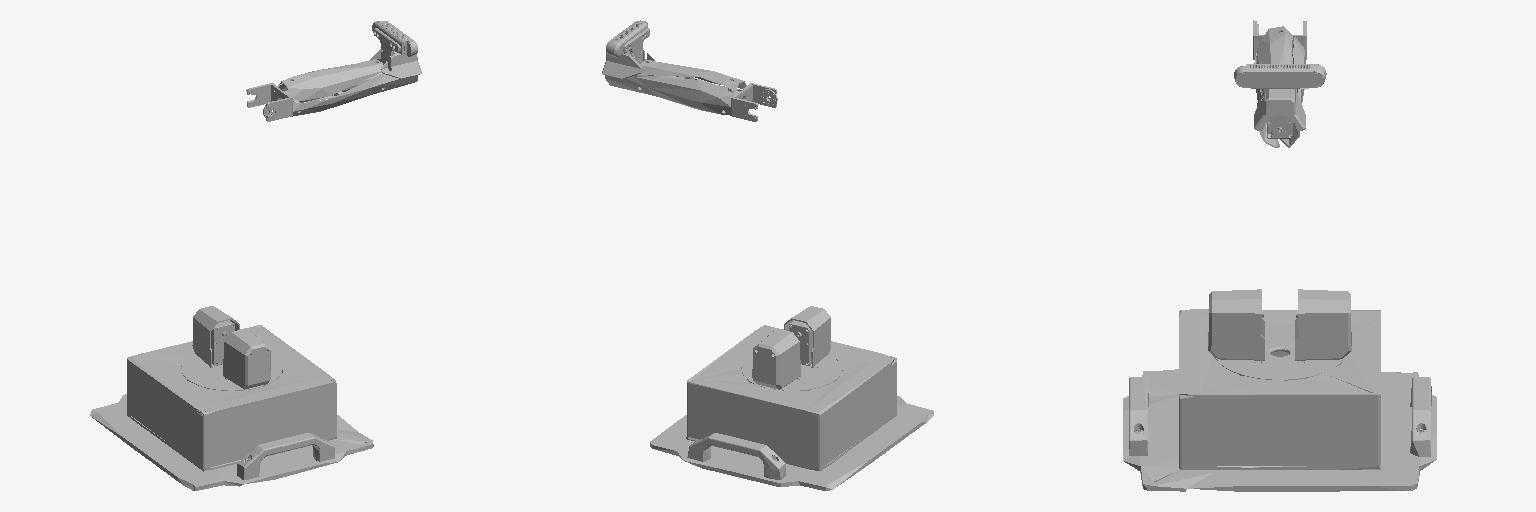
robot.urdf — qarm:
<?xml version="1.0" encoding="utf-8"?>
<!-- GENERATED by scripts/model/build_qarm_urdf.py from the official Quanser URDF (BSD-3). Do not edit by hand; edit the script and re-run. -->
<robot name="qarm">
  <link name="world" />
  <joint name="world_base_joint" type="fixed">
    <origin rpy="0 0 0" xyz="0 0 0" />
    <parent link="world" />
    <child link="base_link" />
  </joint>
  <link name="base_link">
    <inertial>
      <origin xyz="0.000529200576288575 -2.23307396420992E-06 0.0267852902177001" rpy="0 0 0" />
      <mass value="3.89847036294307" />
      <inertia ixx="0.0259717926187233" ixy="7.41706820354147E-07" ixz="-9.20327430275286E-08" iyy="0.0237418182185852" iyz="6.90408382921997E-11" izz="0.048730018421969" />
    </inertial>
    <visual>
      <origin xyz="0 0 0" rpy="0 0 0" />
      <geometry>
        <mesh filename="../meshes/visual/qarm__base_link__vis.stl" />
      </geometry>
      <material name="">
        <color rgba="0.752941176470588 0.752941176470588 0.752941176470588 1" />
      </material>
    </visual>
    <collision>
      <origin xyz="0 0 0" rpy="0 0 0" />
      <geometry>
        <mesh filename="../meshes/collision/qarm__base_link__col.stl" />
      </geometry>
    </collision>
  </link>
  <link name="YAW">
    <inertial>
      <origin xyz="0 0.0003 0.1001" rpy="0 0 0" />
      <mass value="0.7906" />
      <inertia ixx="0.001556" ixy="0" ixz="0" iyy="0.0009624" iyz="-3.22449502e-20" izz="0.001489" />
    </inertial>
    <visual>
      <origin xyz="0 0 0" rpy="0 0 0" />
      <geometry>
        <mesh filename="../meshes/visual/qarm__YAW__vis.stl" />
      </geometry>
      <material name="">
        <color rgba="0.752941176470588 0.752941176470588 0.752941176470588 1" />
      </material>
    </visual>
    <collision>
      <origin xyz="0 0 0" rpy="0 0 0" />
      <geometry>
        <mesh filename="../meshes/collision/qarm__YAW__col.stl" />
      </geometry>
    </collision>
  </link>
  <joint name="YAW" type="revolute">
    <origin xyz="0 0 0" rpy="0 0 0" />
    <parent link="base_link" />
    <child link="YAW" />
    <axis xyz="0 0 1" />
    <limit lower="-2.967060" upper="2.967060" effort="10.6" velocity="1.570796" />
  </joint>
  <link name="BICEP">
    <inertial>
      <origin xyz="0.0196085505 -0.246382898 -0.0001" rpy="0 0 0" />
      <mass value="0.4591" />
      <inertia ixx="0.009354024" ixy="0.001308832" ixz="4.64990535e-18" iyy="0.000379176" iyz="-3.27944747e-17" izz="0.00961" />
    </inertial>
    <visual>
      <origin xyz="0 0 0" rpy="0 0 0" />
      <geometry>
        <mesh filename="../meshes/visual/qarm__BICEP__vis.stl" />
      </geometry>
      <material name="">
        <color rgba="0.752941176470588 0.752941176470588 0.752941176470588 1" />
      </material>
    </visual>
    <collision>
      <origin xyz="0 0 0" rpy="0 0 0" />
      <geometry>
        <mesh filename="../meshes/collision/qarm__BICEP__col.stl" />
      </geometry>
    </collision>
  </link>
  <joint name="SHOULDER" type="revolute">
    <origin xyz="0 0 0.1397714" rpy="-1.5707963267949 0 0" />
    <parent link="YAW" />
    <child link="BICEP" />
    <axis xyz="0 0 1" />
    <limit lower="-1.483530" upper="1.483530" effort="21.2" velocity="1.570796" />
  </joint>
  <link name="FOREARM">
    <inertial>
      <origin xyz="0.0316077014 0.153169426 -0.002" rpy="0 0 0" />
      <mass value="0.269" />
      <inertia ixx="0.002032978" ixy="-0.000252154" ixz="-3.41873056e-19" iyy="0.000303922" iyz="-5.68138162e-20" izz="0.001976" />
    </inertial>
    <visual>
      <origin xyz="0 0 0" rpy="0 0 0" />
      <geometry>
        <mesh filename="../meshes/visual/qarm__FOREARM__vis.stl" />
      </geometry>
      <material name="">
        <color rgba="0.752941176470588 0.752941176470588 0.752941176470588 1" />
      </material>
    </visual>
    <collision>
      <origin xyz="0 0 0" rpy="0 0 0" />
      <geometry>
        <mesh filename="../meshes/collision/qarm__FOREARM__col.stl" />
      </geometry>
    </collision>
  </link>
  <joint name="ELBOW" type="revolute">
    <origin xyz="0.0500000000000004 -0.350000000000015 0" rpy="0 0 -1.42889927219074" />
    <parent link="BICEP" />
    <child link="FOREARM" />
    <axis xyz="0 0 1" />
    <limit lower="-1.658063" upper="1.308997" effort="10.6" velocity="1.570796" />
  </joint>
  <link name="END-EFFECTOR">
    <inertial>
      <origin xyz="-0.0113743 9.67484374e-16 0.0622" rpy="0 0 0" />
      <mass value="0.257" />
      <inertia ixx="0.00112" ixy="4.2845727e-19" ixz="1.23190347e-18" iyy="0.0009994" iyz="1.23137056e-18" izz="0.0006528" />
    </inertial>
    <visual>
      <origin xyz="0 0 0" rpy="0 0 0" />
      <geometry>
        <mesh filename="../meshes/visual/qarm__END-EFFECTOR__vis.stl" />
      </geometry>
      <material name="">
        <color rgba="0.752941176470588 0.752941176470588 0.752941176470588 1" />
      </material>
    </visual>
    <collision>
      <origin xyz="0 0 0" rpy="0 0 0" />
      <geometry>
        <mesh filename="../meshes/collision/qarm__END-EFFECTOR__col.stl" />
      </geometry>
    </collision>
  </link>
  <joint name="WRIST" type="revolute">
    <origin xyz="0.0336611536380097 0.235607569369425 0" rpy="-1.5707963267949 0 -0.141897054604159" />
    <parent link="FOREARM" />
    <child link="END-EFFECTOR" />
    <axis xyz="0 0 1" />
    <limit lower="-2.792527" upper="2.792527" effort="4.1" velocity="1.570796" />
  </joint>
  <link name="tcp">
    <inertial>
      <origin xyz="0 0 0" rpy="0 0 0" />
      <mass value="0.0001" />
      <inertia ixx="1e-09" ixy="0" ixz="0" iyy="1e-09" iyz="0" izz="1e-09" />
    </inertial>
  </link>
  <joint name="tcp_joint" type="fixed">
    <origin xyz="0 0 0.162" rpy="0 0 0" />
    <parent link="END-EFFECTOR" />
    <child link="tcp" />
  </joint>
</robot>

--- What the picture shows (computed from the rendered views, not written in the file) ---
3 views of the same robot in one strip: view 1: azimuth 30°, elevation 25°; view 2: azimuth 150°, elevation 25°; view 3: azimuth 270°, elevation 25° (orthographic).
Model qarm with 7 links and 6 joints (4 revolute, 2 fixed), rooted at world, posed all joints at 0.
Visible links, largest first — view 1: base_link, FOREARM, YAW; view 2: base_link, FOREARM, YAW; view 3: base_link, YAW, FOREARM.
Link boxes in pixels (bbox=[...]): base_link: bbox=[90, 325, 373, 490]; FOREARM: bbox=[246, 21, 421, 121]; YAW: bbox=[182, 306, 281, 390]; base_link: bbox=[650, 325, 933, 490]; FOREARM: bbox=[602, 20, 777, 121]; YAW: bbox=[742, 306, 841, 390]; base_link: bbox=[1123, 309, 1436, 491]; YAW: bbox=[1208, 289, 1351, 380]; FOREARM: bbox=[1234, 20, 1326, 147].
Size in the robot's own frame: 0.438 by 0.3353 by 0.553 metres.
3 mesh visuals loaded from 5 distinct referenced files (3 binary STL); not drawn: 2 (reference not matched to a file when rendering).
